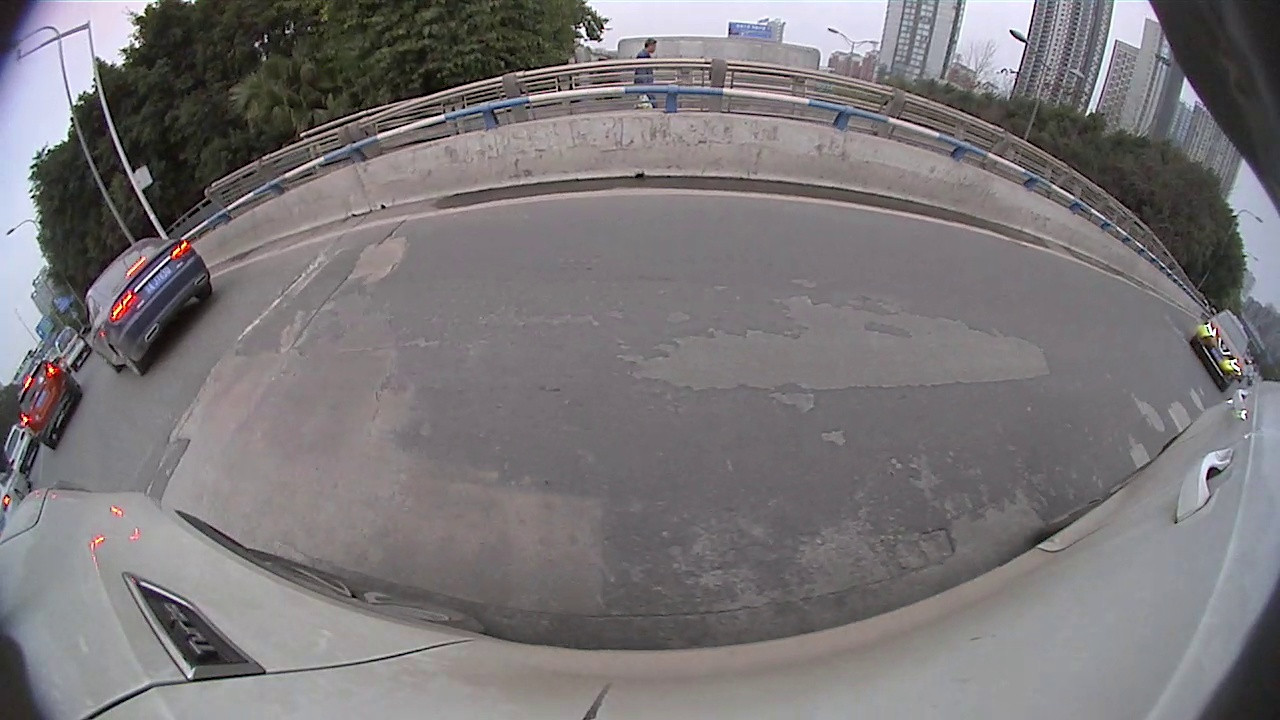car: (79, 236, 214, 376), (14, 357, 85, 450), (1192, 309, 1252, 391), (1, 423, 39, 478), (3, 464, 35, 523), (49, 325, 89, 366)
person: (636, 38, 655, 114)
rear: (110, 341, 144, 380), (191, 278, 213, 304)
